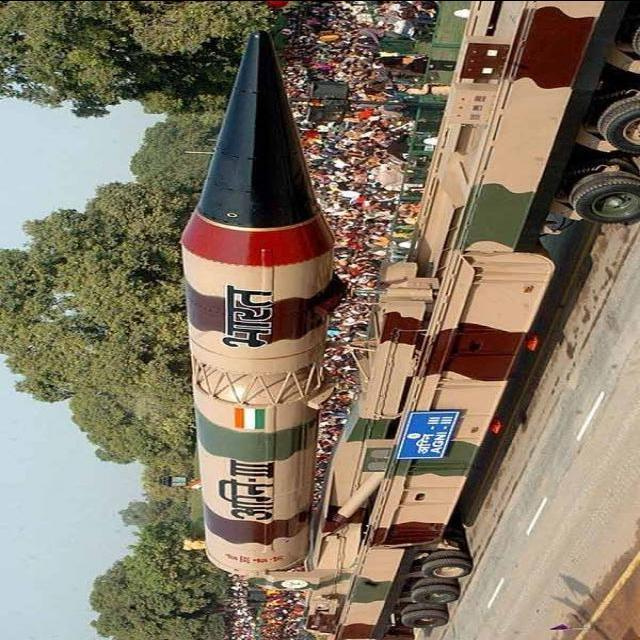Missile: (182, 22, 326, 585)
